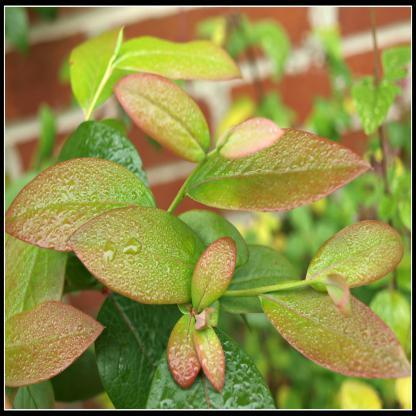Blueberry leaf: (188, 126, 376, 218), (258, 280, 416, 387), (66, 202, 211, 312), (5, 162, 163, 255), (4, 297, 108, 389), (308, 218, 404, 290), (188, 230, 252, 307), (190, 314, 234, 396)
